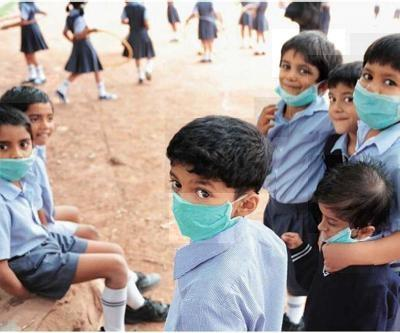mask: (169, 168, 234, 243), (352, 66, 400, 131)
no_apron: (320, 242, 375, 274), (255, 98, 290, 138)
no_gloves: (166, 119, 277, 194), (308, 156, 398, 234), (272, 29, 346, 77), (350, 33, 400, 86), (308, 56, 376, 94), (0, 75, 59, 108), (0, 103, 39, 140)
no_hairnet: (275, 61, 318, 107), (1, 136, 37, 182), (328, 87, 356, 135), (317, 214, 353, 248), (28, 109, 55, 147)
